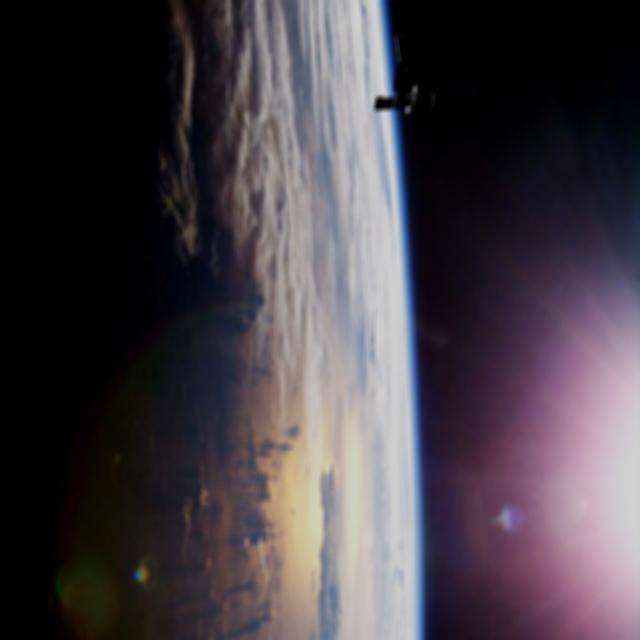satellite: (347, 73, 489, 124)
